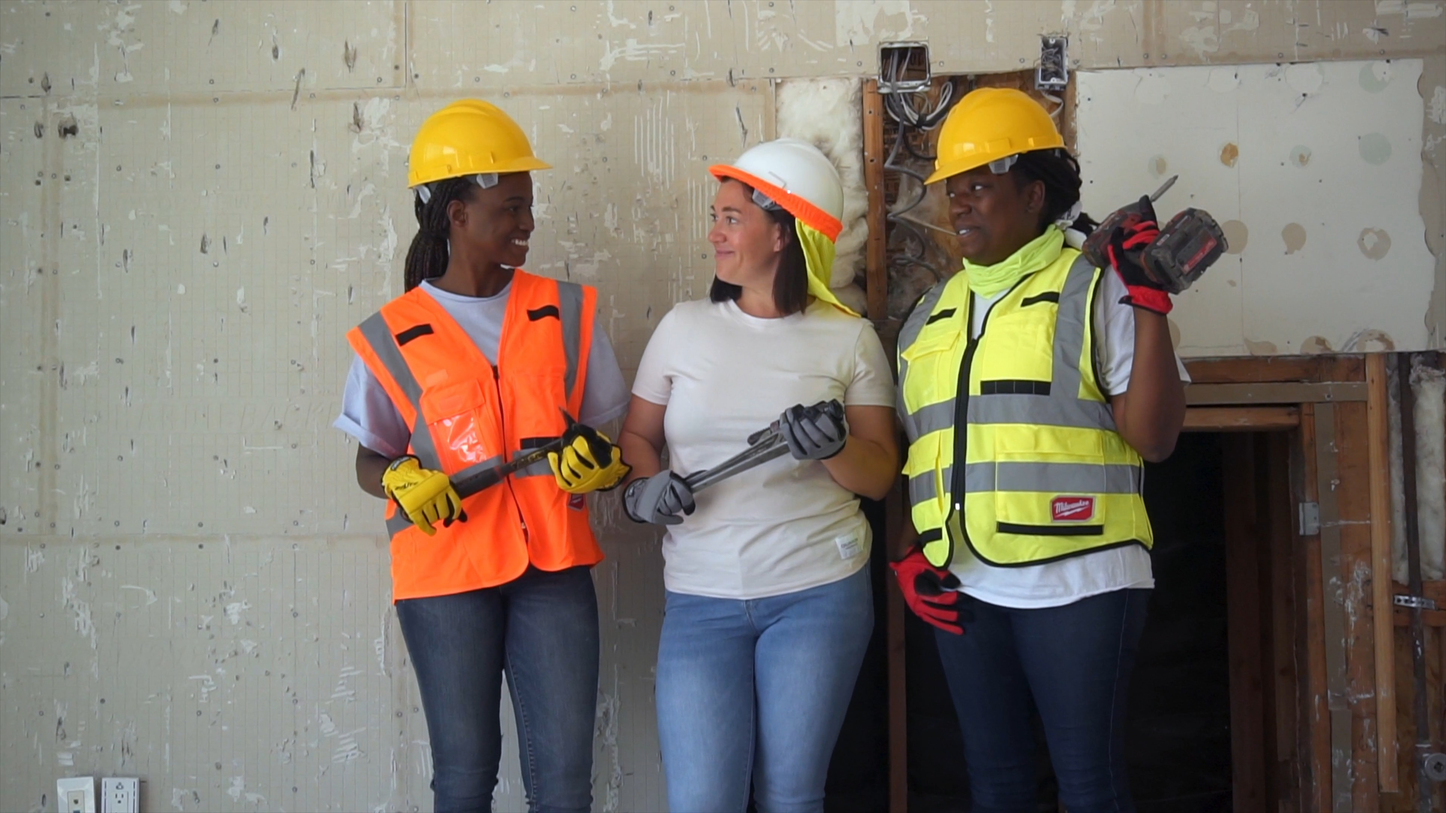gloves: (1094, 197, 1191, 319), (369, 442, 475, 540), (883, 544, 973, 644), (546, 407, 618, 519), (772, 384, 862, 468), (629, 462, 714, 537)
